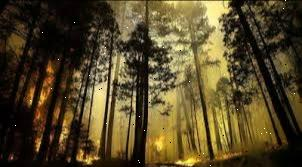fire: (26, 64, 58, 121), (168, 154, 206, 167), (150, 134, 166, 162), (77, 146, 99, 164)
